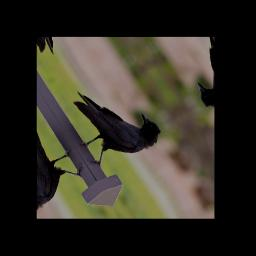Crow: (53, 67, 167, 177)
